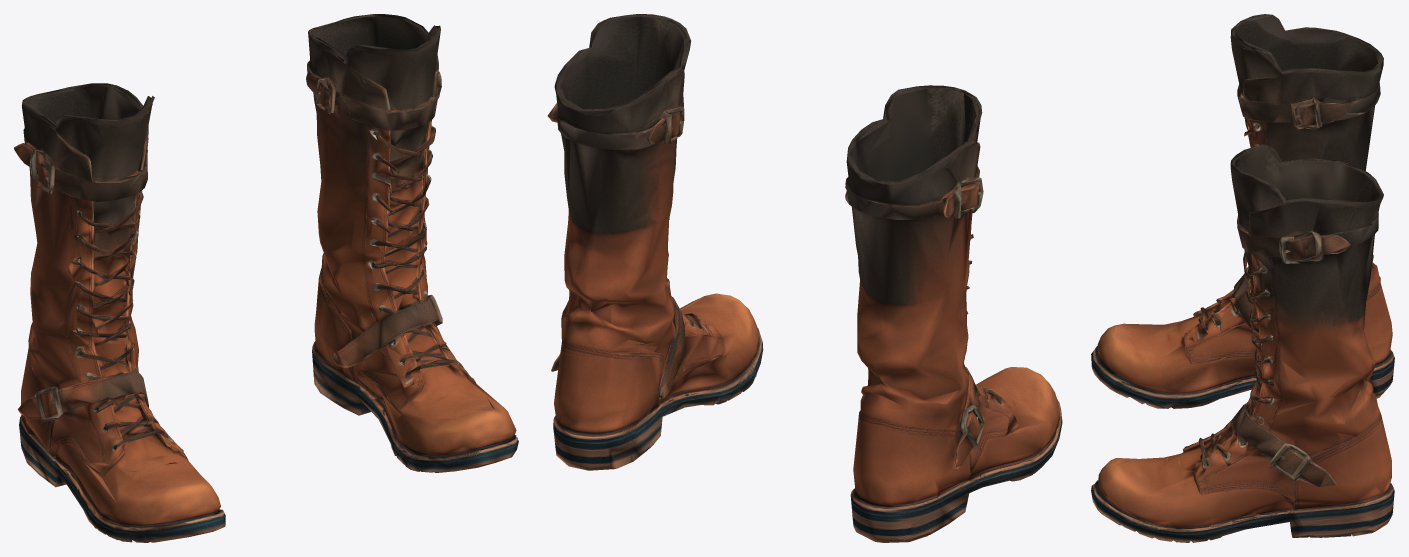
Rendered from boots_01.glb.
The picture shows the model from 3 angles, left to right: view 1: azimuth 30°, elevation 25°; view 2: azimuth 150°, elevation 25°; view 3: azimuth 270°, elevation 25°; orthographic projection. The views are drawn at different scales.
Parts seen in each view (by area): view 1: mesh_node; view 2: mesh_node; view 3: mesh_node.
Boxes of the visible parts, left/top/right/bottom form: mesh_node: left=14, top=14, right=518, bottom=542; mesh_node: left=547, top=14, right=1062, bottom=542; mesh_node: left=1091, top=14, right=1394, bottom=542.
Size of the model in its own units: 0.486 by 0.45 by 0.3446.
Materials: 1 (1 with a texture image).
